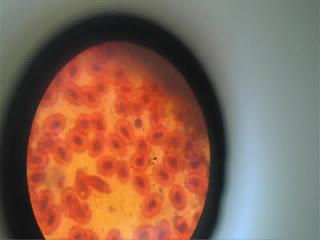cell: (115, 120, 139, 143), (80, 82, 100, 109), (54, 140, 72, 170), (66, 127, 86, 154), (59, 189, 78, 216), (169, 185, 187, 212), (44, 113, 69, 132), (108, 135, 129, 157), (26, 150, 49, 170), (112, 62, 137, 80), (139, 196, 164, 214), (75, 171, 91, 198), (95, 155, 116, 175), (148, 128, 170, 147), (87, 58, 110, 76), (133, 173, 153, 193), (162, 151, 182, 171), (73, 114, 94, 133), (65, 86, 83, 108), (186, 174, 208, 192), (90, 135, 107, 158), (154, 168, 173, 188), (131, 152, 152, 170), (36, 190, 48, 219), (39, 135, 58, 153), (136, 134, 152, 155), (27, 172, 51, 186), (115, 82, 140, 95), (41, 89, 60, 106), (135, 224, 155, 240), (93, 77, 109, 96), (114, 98, 130, 117), (46, 208, 58, 233), (67, 62, 83, 80), (118, 162, 130, 184), (136, 92, 152, 107), (132, 100, 144, 118)
